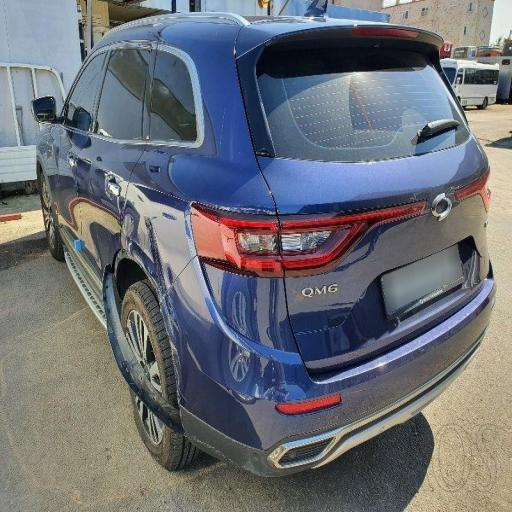scratch: (81, 153, 229, 304)
